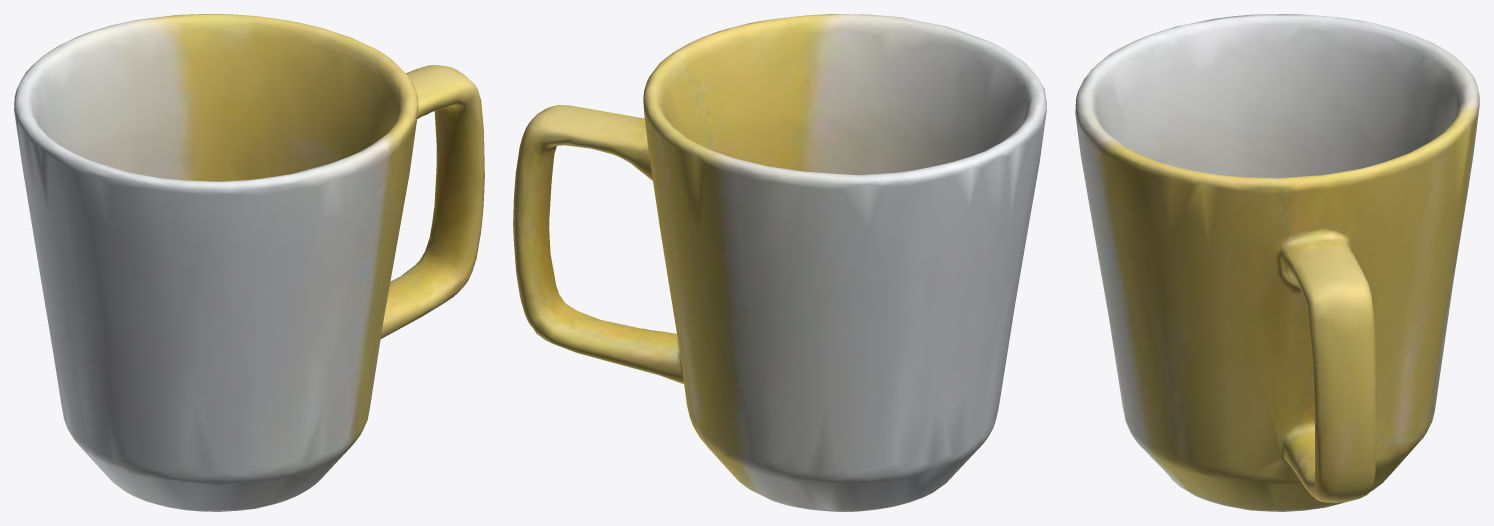
Rendered from Room_Essentials_Mug_White_Yellow-high.glb.
3 renders of one model, left to right at view 1: azimuth 30°, elevation 25°; view 2: azimuth 150°, elevation 25°; view 3: azimuth 270°, elevation 25°, orthographic.
Parts seen in each view (by area): view 1: Room_Essentials_Mug_White_Yellow; view 2: Room_Essentials_Mug_White_Yellow; view 3: Room_Essentials_Mug_White_Yellow.
Boxes of the visible parts, x1,y1,x2,y2 form: Room_Essentials_Mug_White_Yellow: (14, 14, 484, 511); Room_Essentials_Mug_White_Yellow: (513, 14, 1046, 511); Room_Essentials_Mug_White_Yellow: (1075, 14, 1479, 511).
Size of the model in its own units: 0.1368 by 0.1048 by 0.1022.
1 material, 1 textured.
